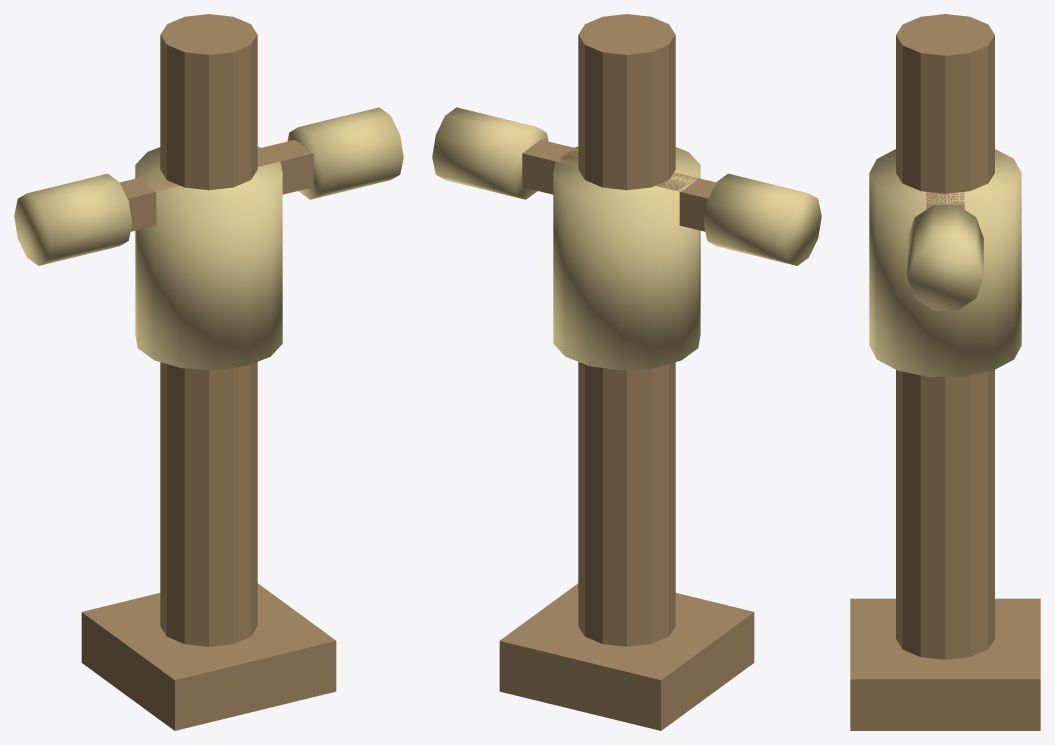
File: poteau_entrainement.glb
The picture shows the model from 3 angles, left to right: view 1: azimuth 30°, elevation 25°; view 2: azimuth 150°, elevation 25°; view 3: azimuth 270°, elevation 25°; orthographic projection. The views are drawn at different scales.
Parts seen in each view (by area): view 1: poteau_bois, poteau_paille; view 2: poteau_bois, poteau_paille; view 3: poteau_bois, poteau_paille.
Boxes of the visible parts, x1,y1,x2,y2 form: poteau_bois: (81,14,336,730); poteau_paille: (14,107,403,370); poteau_bois: (499,14,754,730); poteau_paille: (432,107,821,370); poteau_bois: (850,14,1040,730); poteau_paille: (869,149,1021,376).
Bounding box in the file's own units: 1.09 × 1.9 × 0.5.
